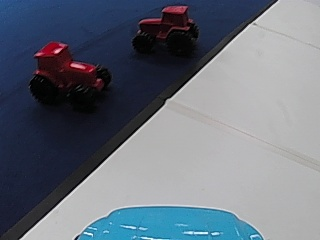Tracktor: (27, 40, 113, 108), (133, 4, 199, 55)
